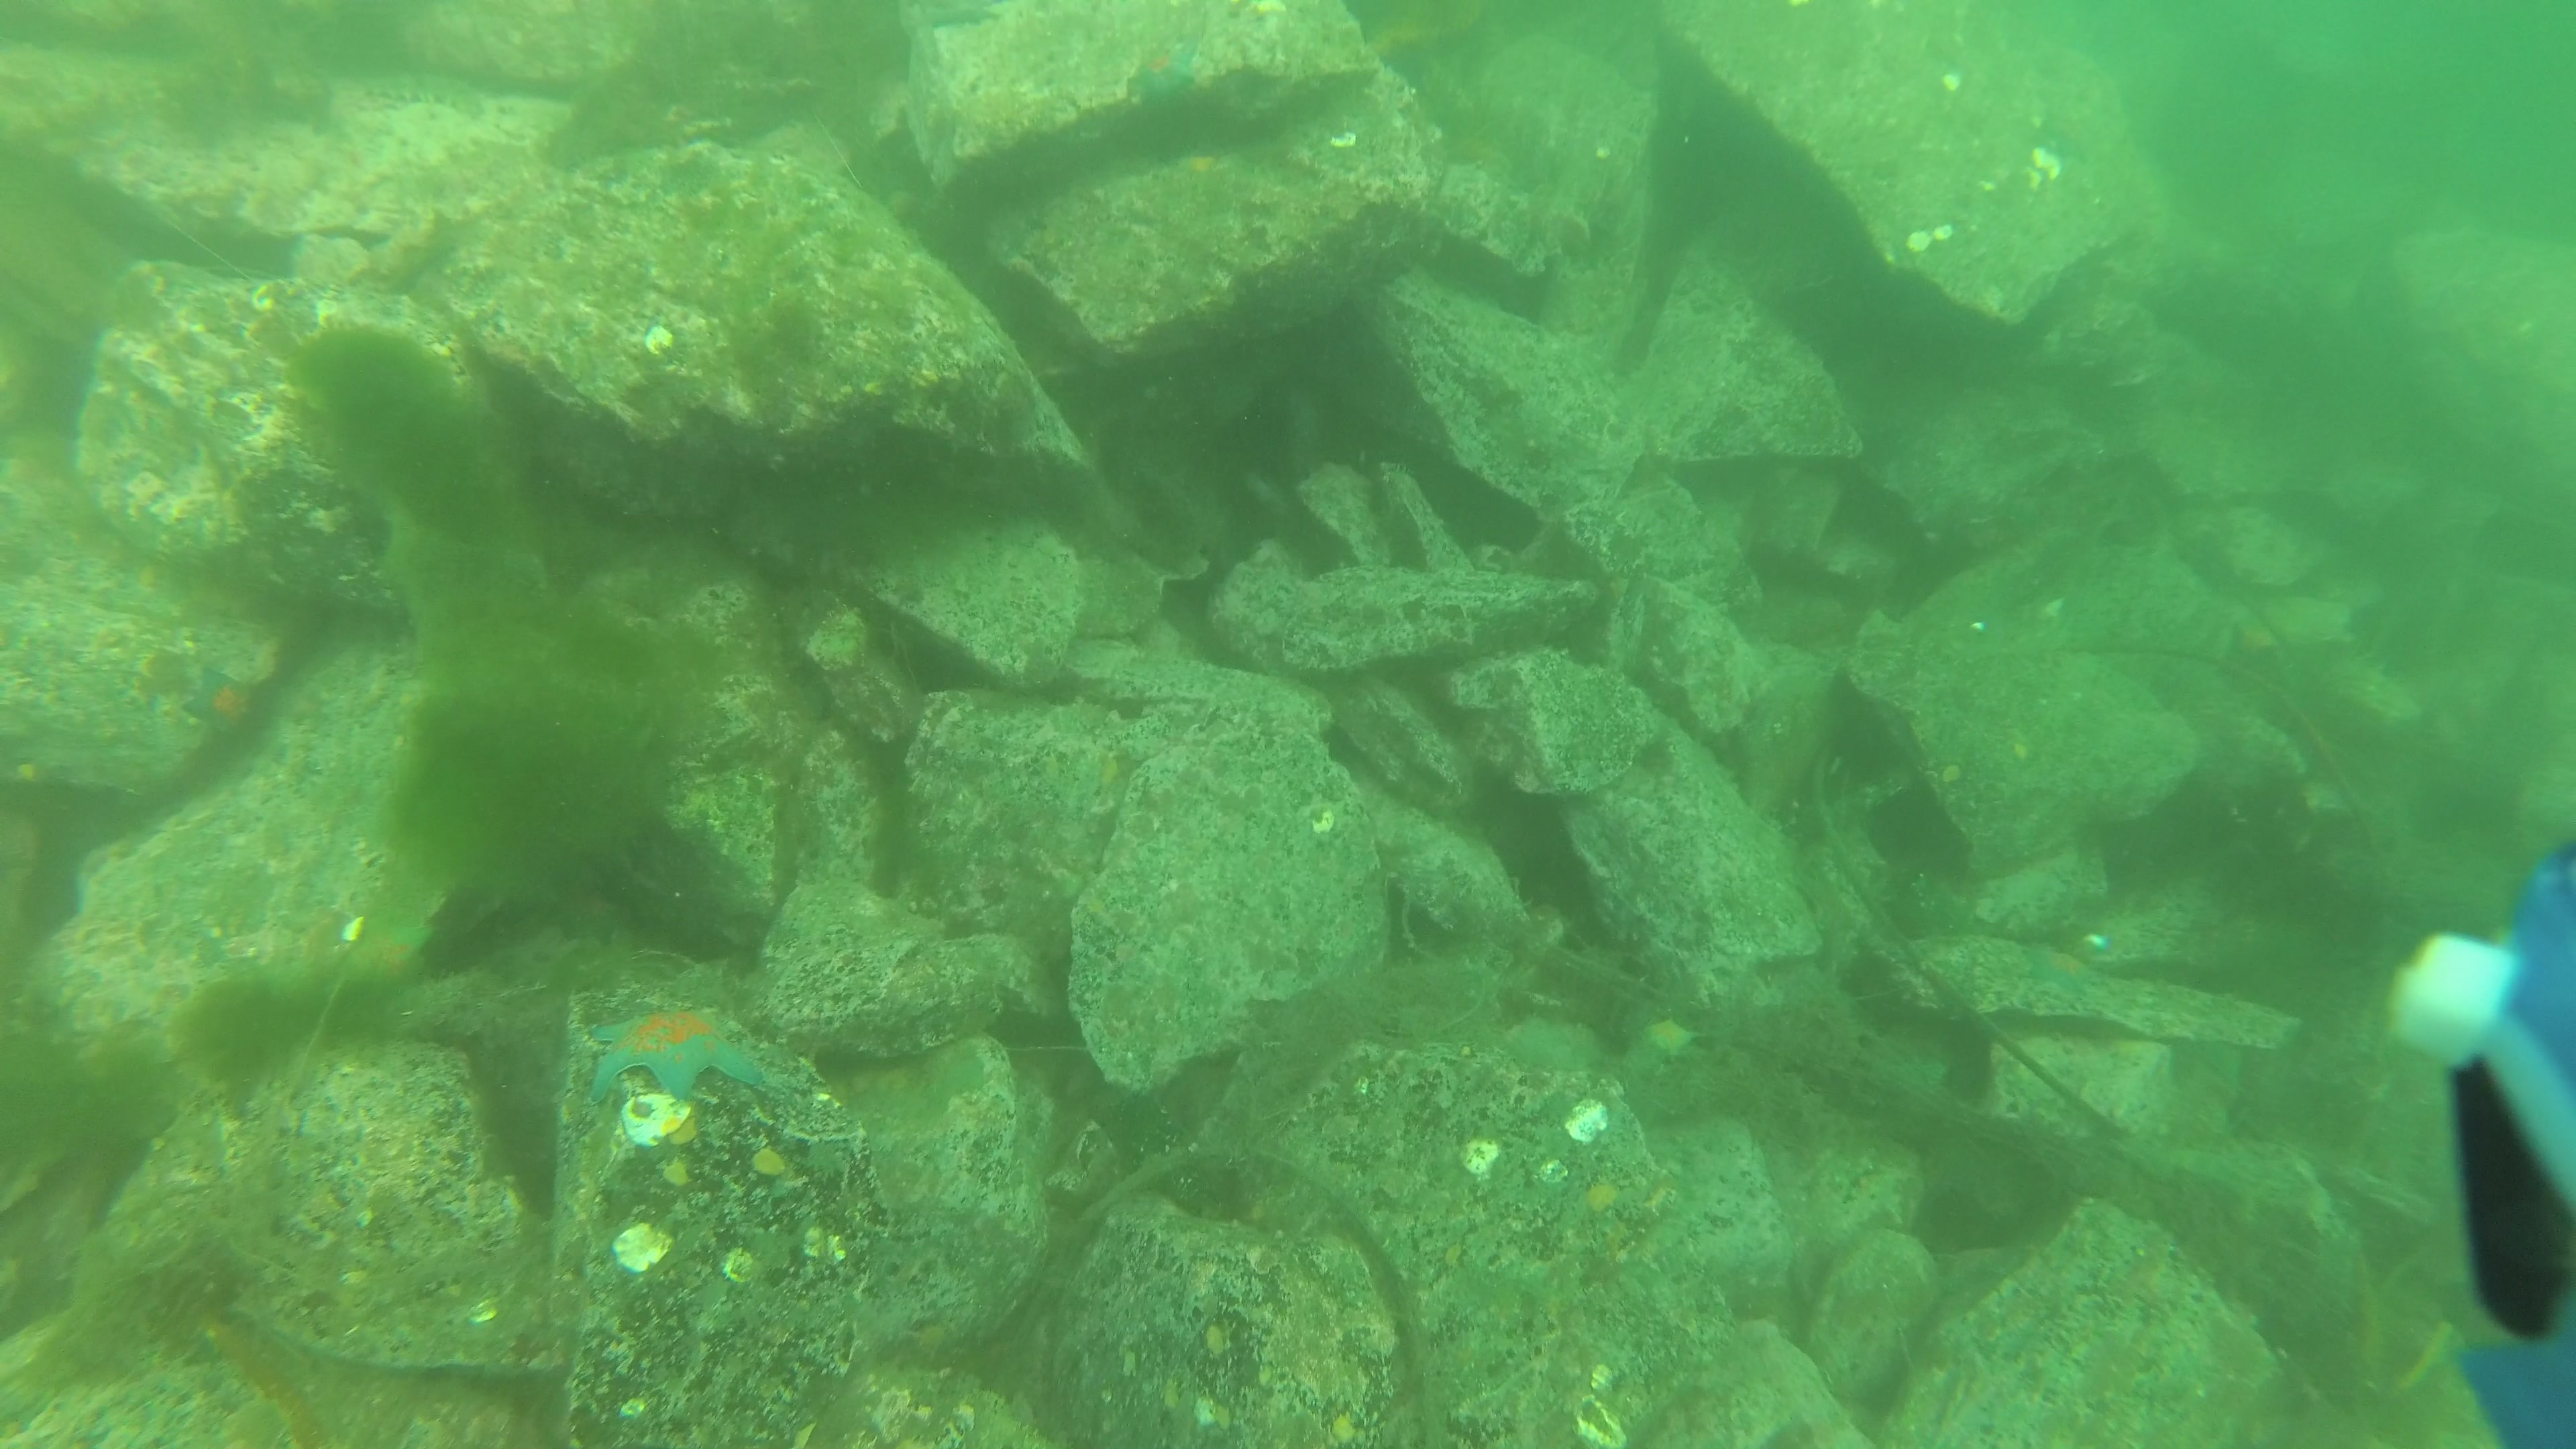holothurian: (364, 67, 492, 122)
starfish: (577, 996, 777, 1106), (329, 904, 439, 1001), (177, 656, 264, 745), (1116, 35, 1212, 113), (2015, 934, 2102, 1000)
